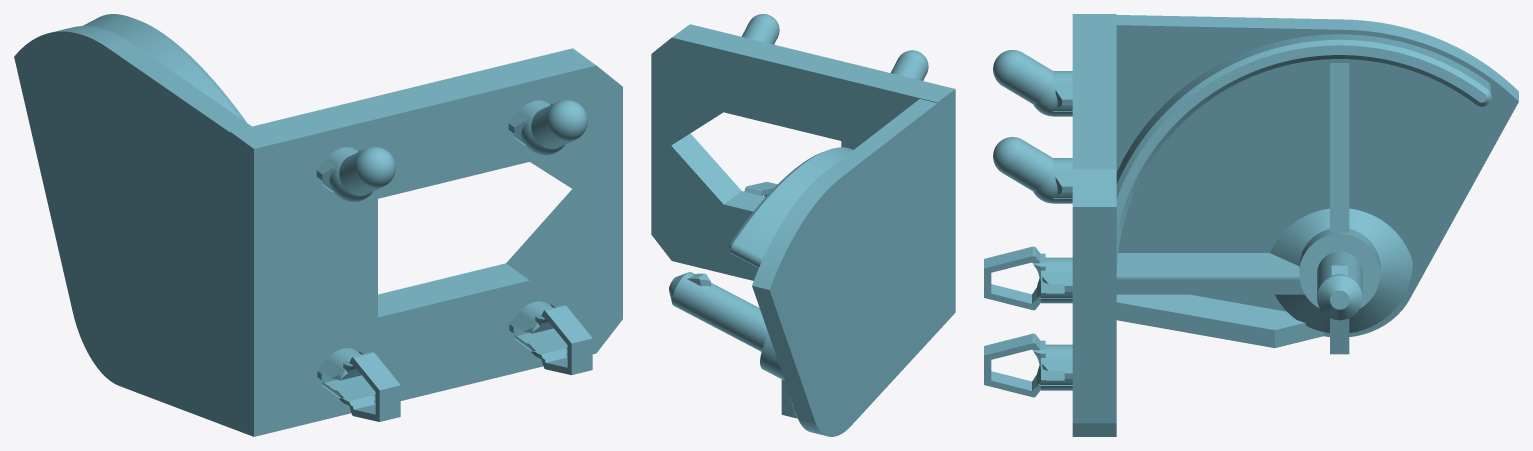
Rendered from part-solder-braid__v12__right-cheek__fit-pf02c9-hoop5__installed.glb.
3 renders of one model, left to right at view 1: azimuth 30°, elevation 25°; view 2: azimuth 150°, elevation 25°; view 3: azimuth 270°, elevation 25°, orthographic. The views are drawn at different scales.
Parts seen in each view (by area): view 1: part-solder-braid__v12__right-cheek__fit-pf02c9-hoop5__insta; view 2: part-solder-braid__v12__right-cheek__fit-pf02c9-hoop5__insta; view 3: part-solder-braid__v12__right-cheek__fit-pf02c9-hoop5__insta.
Boxes of the visible parts, x1,y1,x2,y2 form: part-solder-braid__v12__right-cheek__fit-pf02c9-hoop5__insta: (14, 14, 622, 436); part-solder-braid__v12__right-cheek__fit-pf02c9-hoop5__insta: (651, 14, 955, 436); part-solder-braid__v12__right-cheek__fit-pf02c9-hoop5__insta: (984, 14, 1518, 436).
Size of the model in its own units: 0.0488 by 0.043 by 0.0659.
